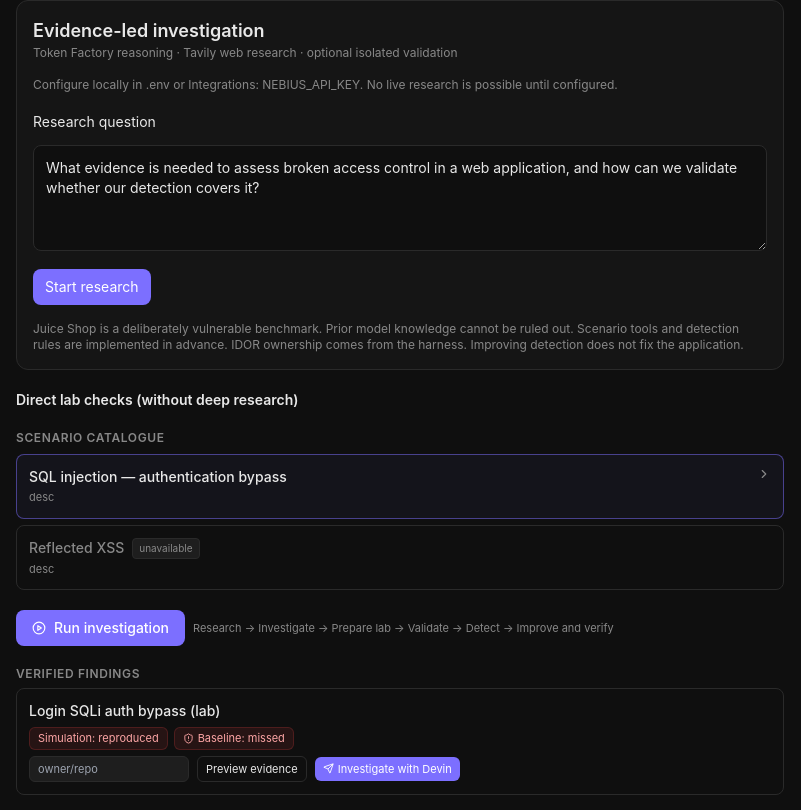
Test: InvestigationWorkflow › Devin handoff is only shown as sent after the backend confirms a real session
The image size is (801, 810).
Expected: the text "Login SQLi auth bypass (lab)" is shown, [29,702,220,719]
In the field with placeholder "owner/repo": (109, 769) [29,756,189,782], type "o/r"
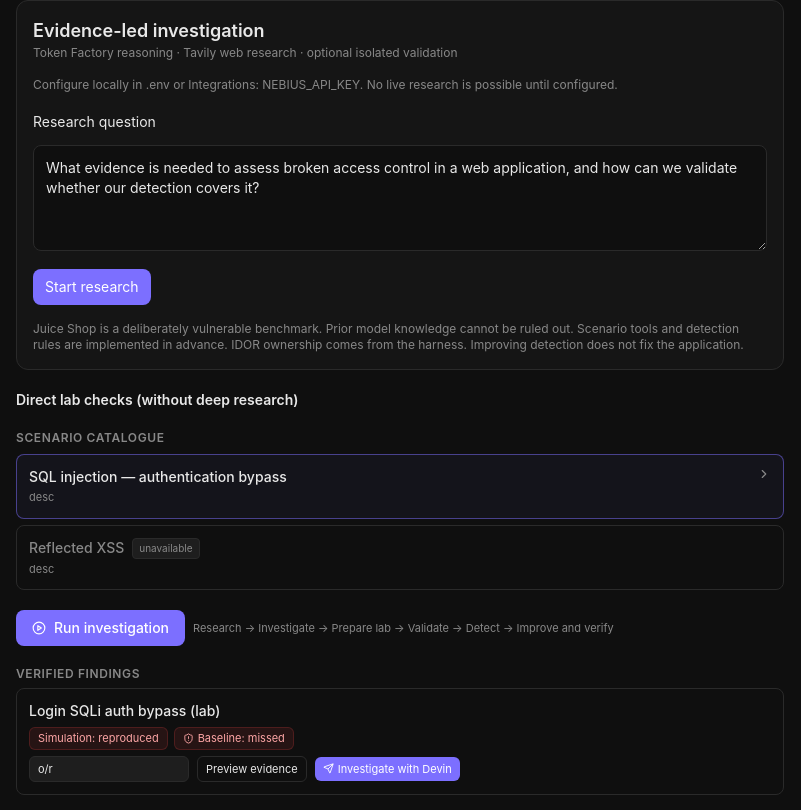
Click the button "Preview evidence": (252, 769) [197,756,307,782]
(page scrolled)
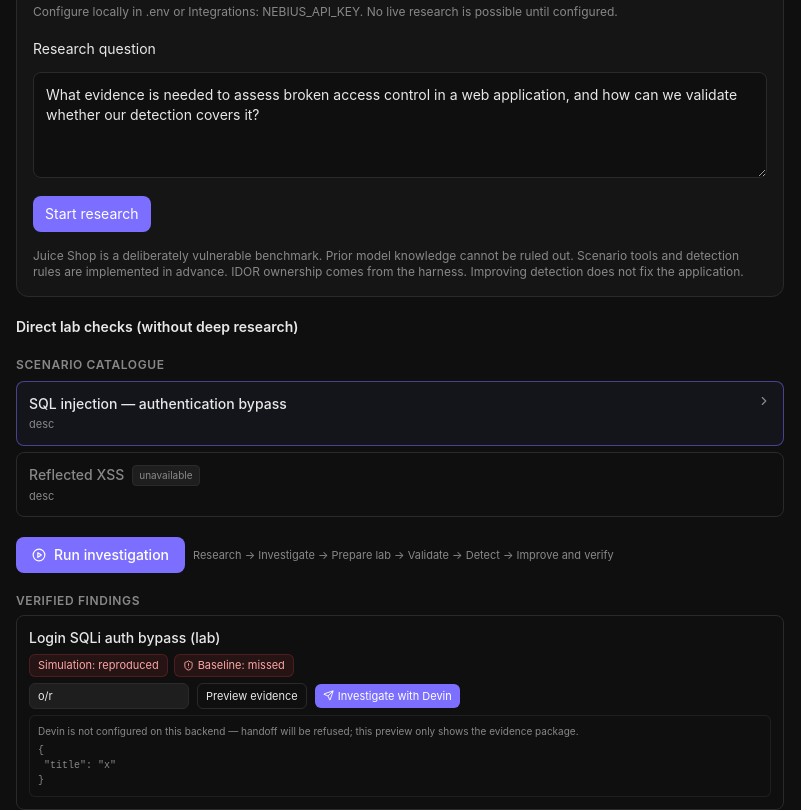
Now the text "Devin is not configured" is shown, box [38,725,578,737]
